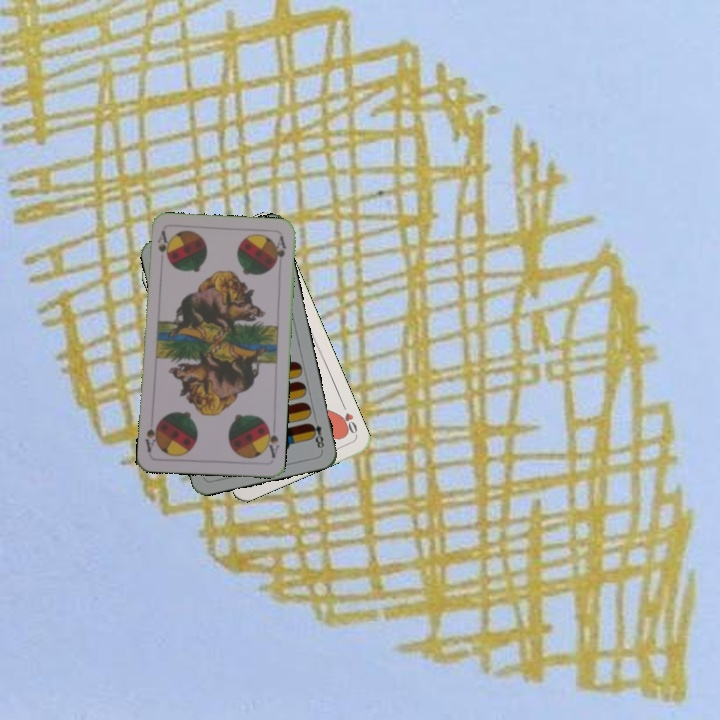E8: (305, 413, 327, 453)
HO: (335, 399, 360, 438)
SA: (261, 421, 281, 460), (154, 227, 171, 262)
